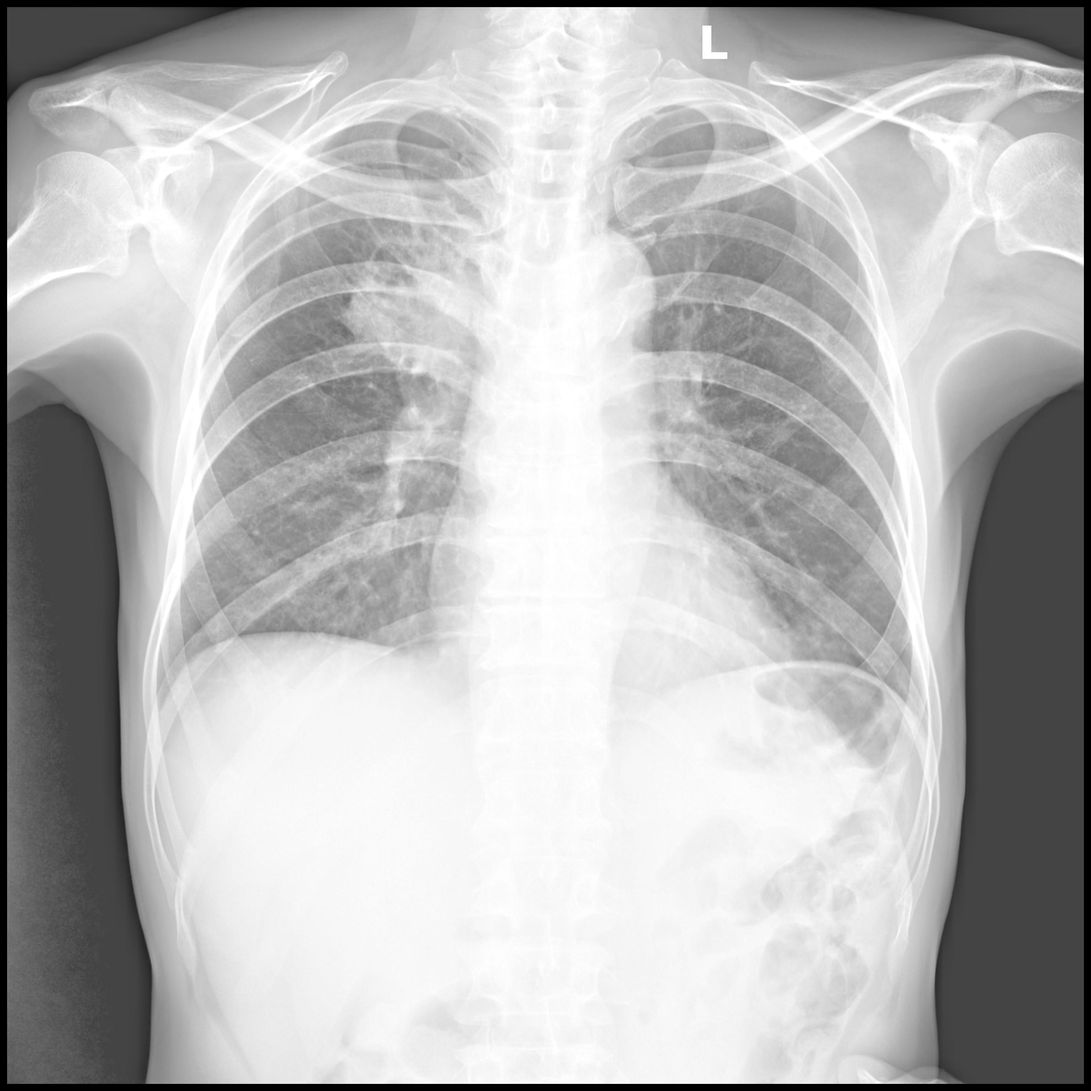Aortic enlargement: (546, 228, 654, 349)
